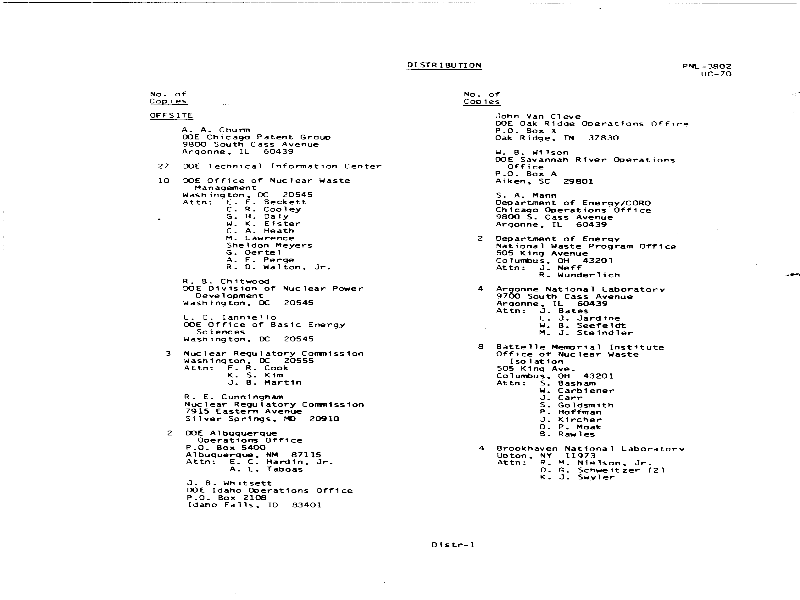table: (148, 86, 386, 517), (462, 84, 693, 514)
